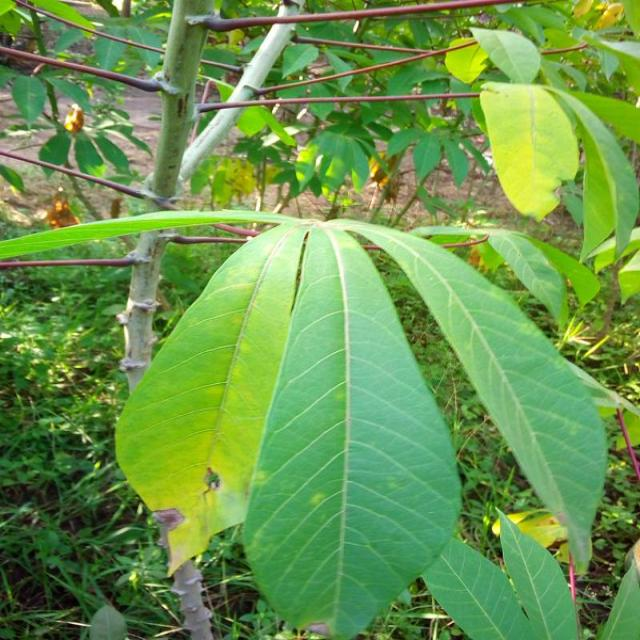cassava leaf: (113, 215, 612, 637), (241, 221, 462, 638)
